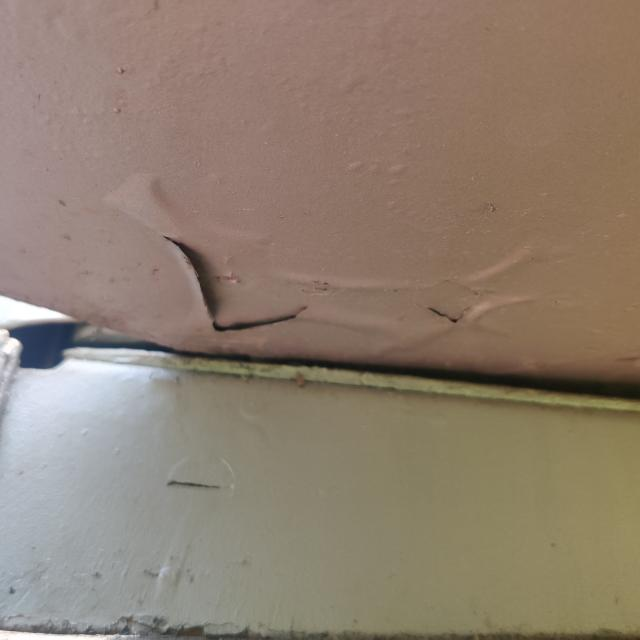paint-off: (154, 214, 320, 344), (414, 264, 495, 333)
